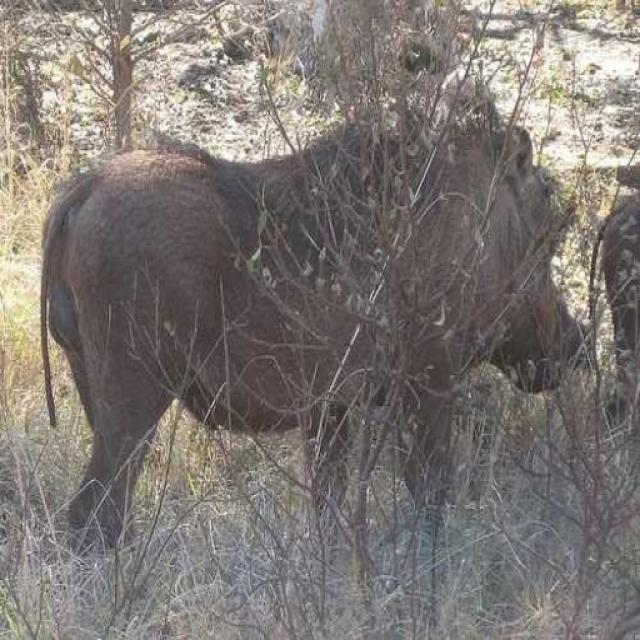pig: (0, 36, 604, 523)
